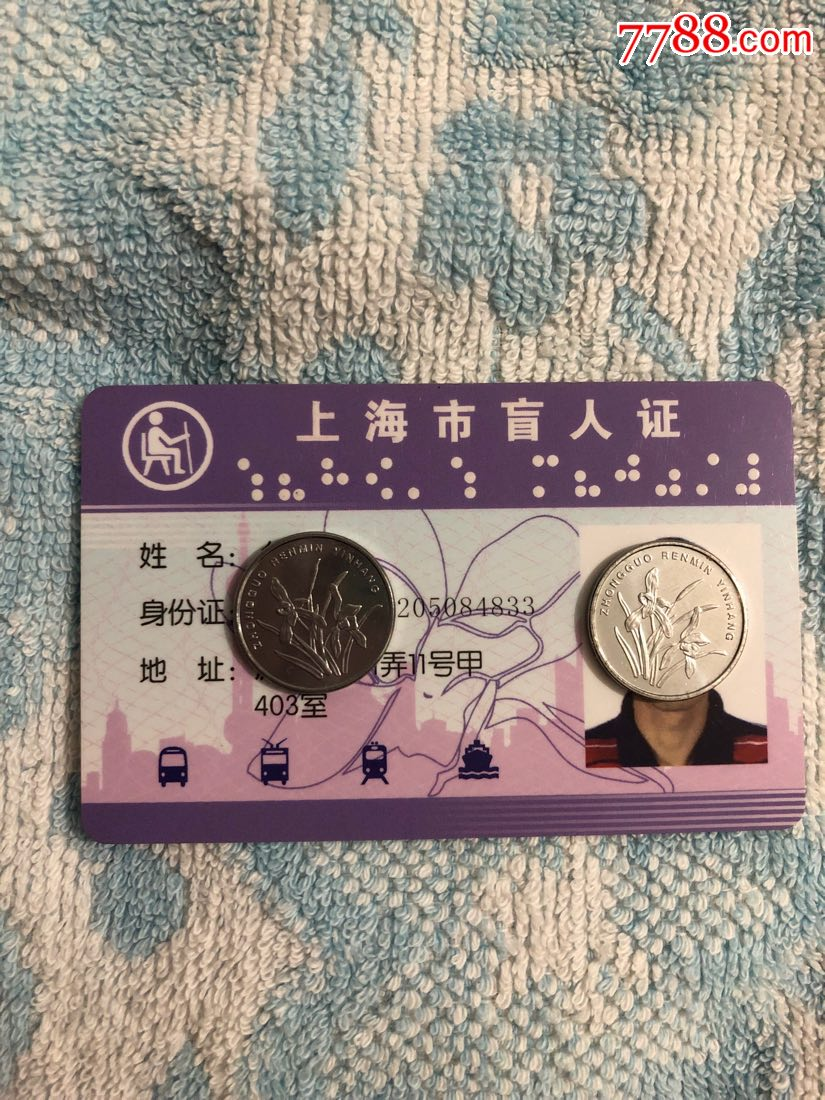Braille: (449, 455, 479, 503), (365, 456, 395, 503), (320, 456, 349, 504), (531, 451, 560, 498), (734, 450, 762, 498), (279, 458, 307, 505), (654, 454, 682, 501), (615, 451, 642, 499), (575, 454, 603, 499), (238, 457, 265, 503), (408, 457, 434, 503), (695, 452, 720, 497)
